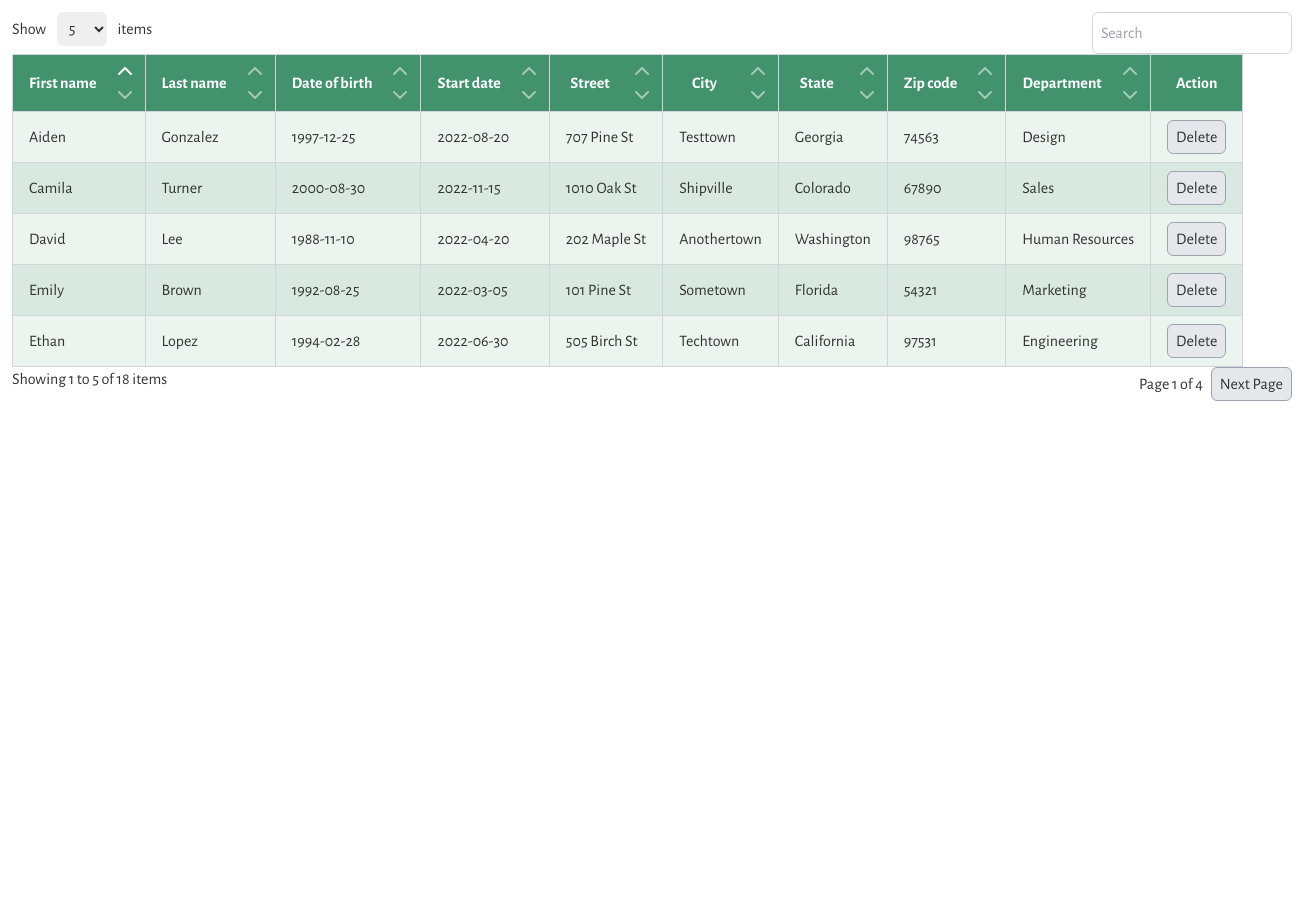
Given the SortableTable component › The component should update the table when the number of items per page changes
Step 1. Select "10" in the dropdown → (82, 29), box [57, 12, 107, 46]
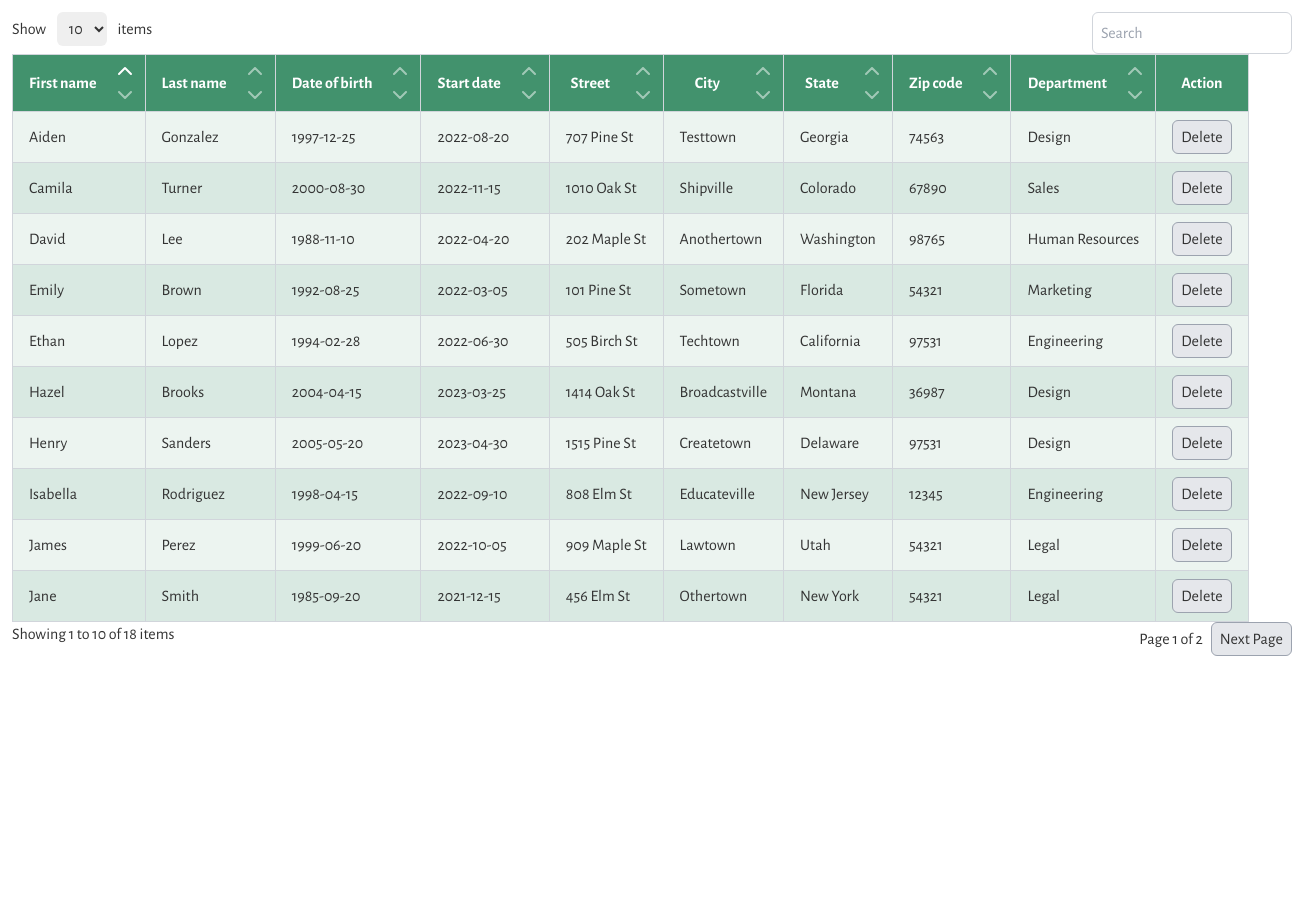
Result: the number of cells with id "tableRow" is 10
